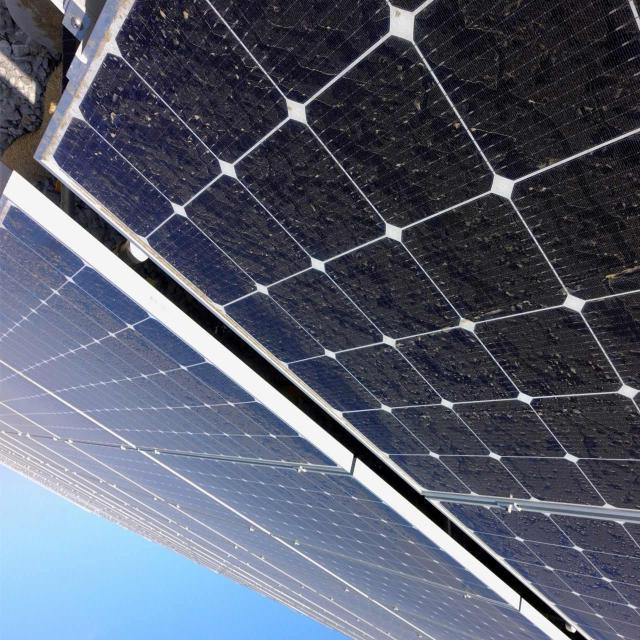soiled: (4, 0, 640, 632)
